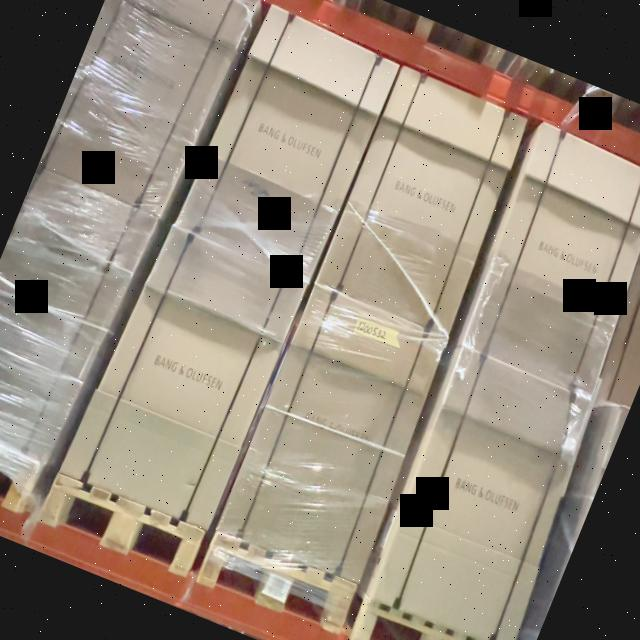box: (59, 225, 310, 529), (217, 283, 447, 583), (367, 349, 589, 640), (176, 4, 399, 278), (316, 65, 530, 339), (465, 123, 640, 395)
